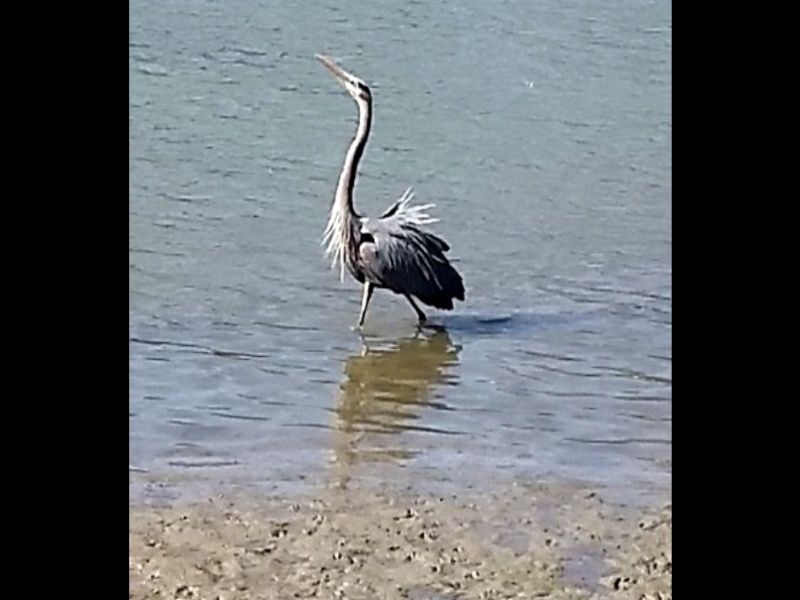heron: (310, 53, 469, 338)
